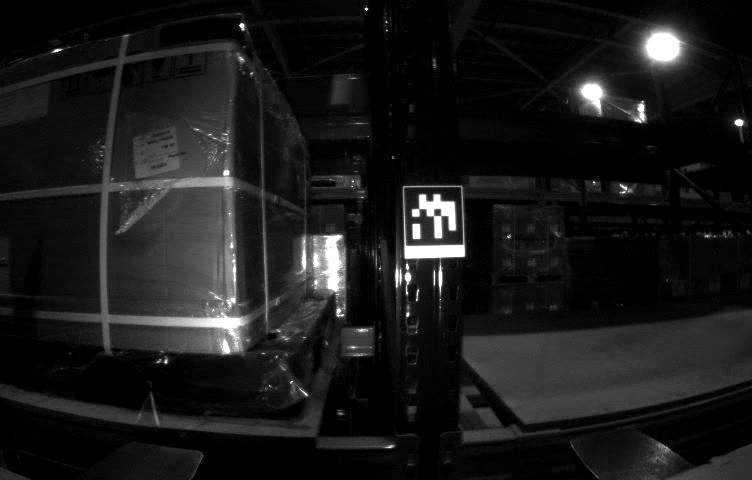True Barcode: (131, 127, 183, 177)
